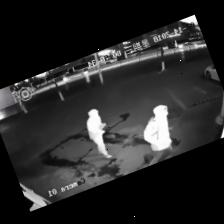person: (143, 105, 172, 165), (86, 109, 110, 158)
